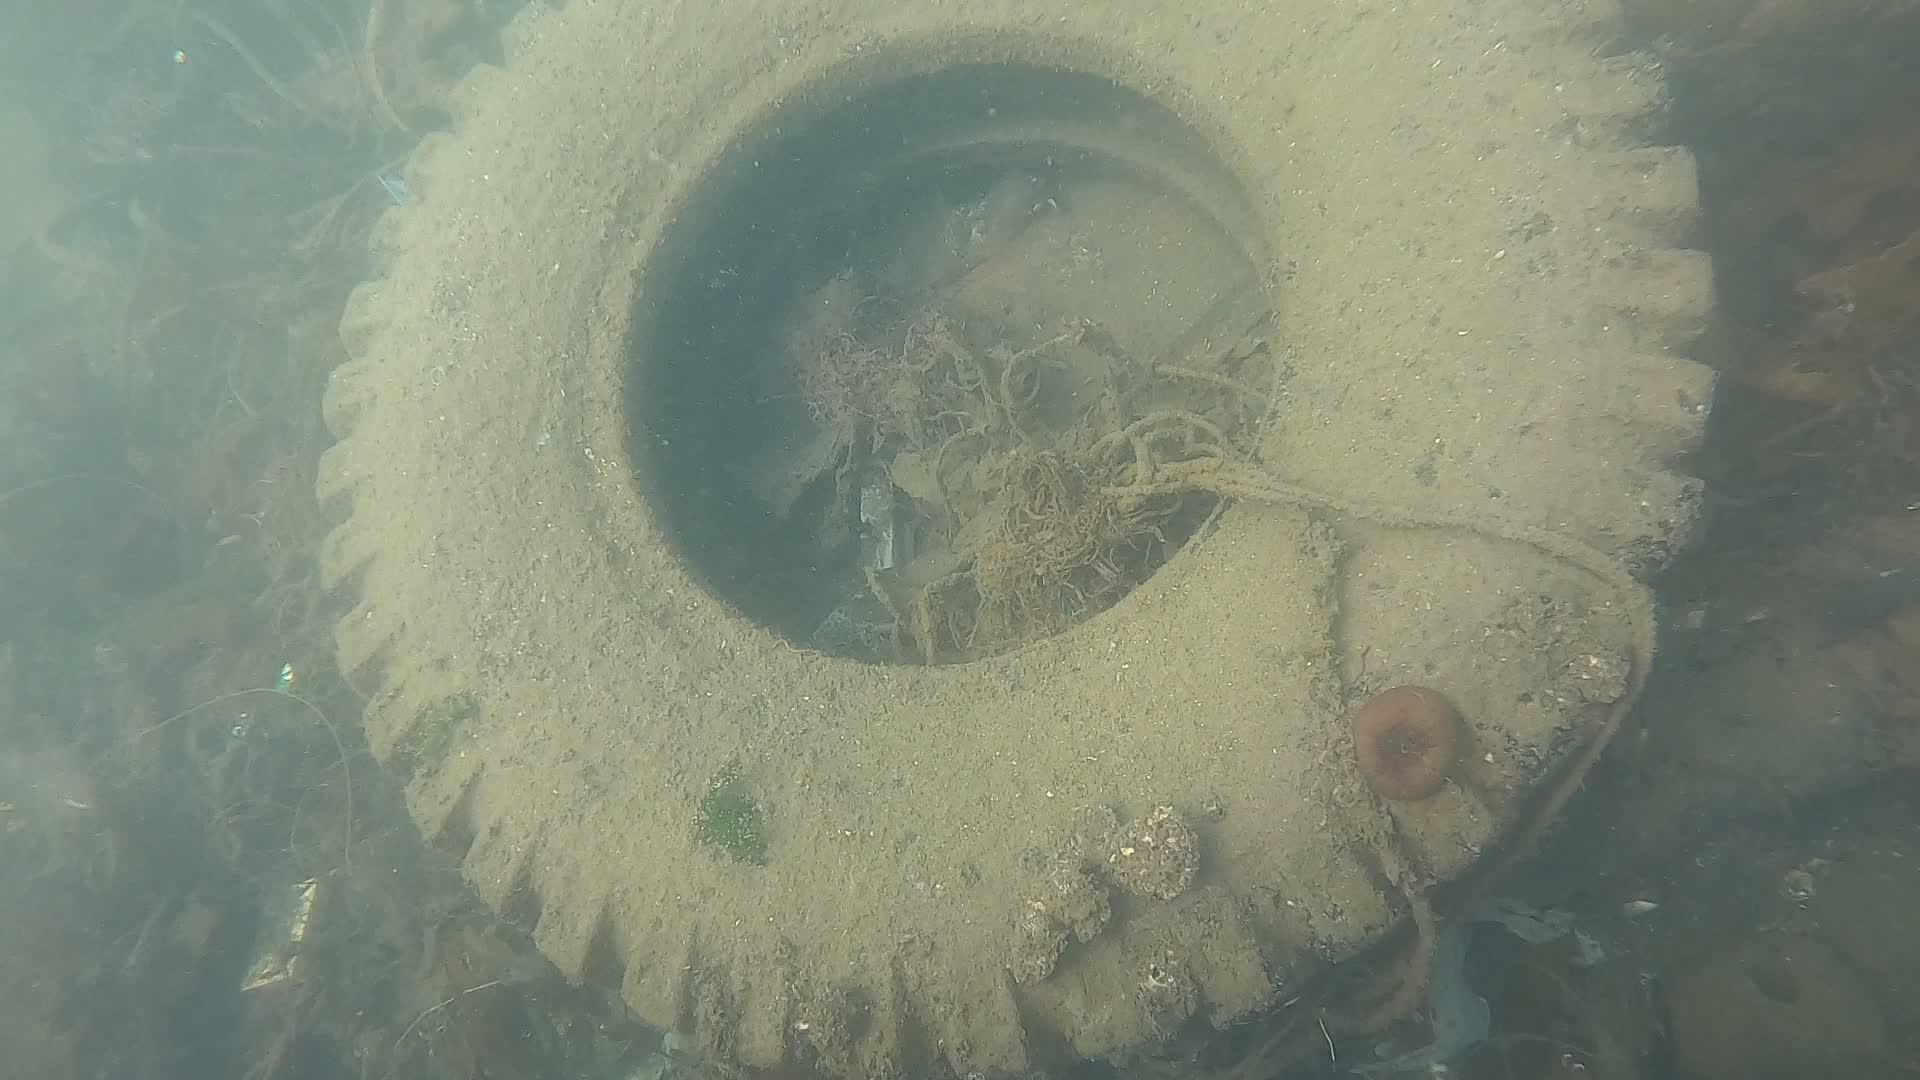bundle of ropes: (1141, 404, 1660, 1042)
tire: (311, 0, 1712, 1080)
